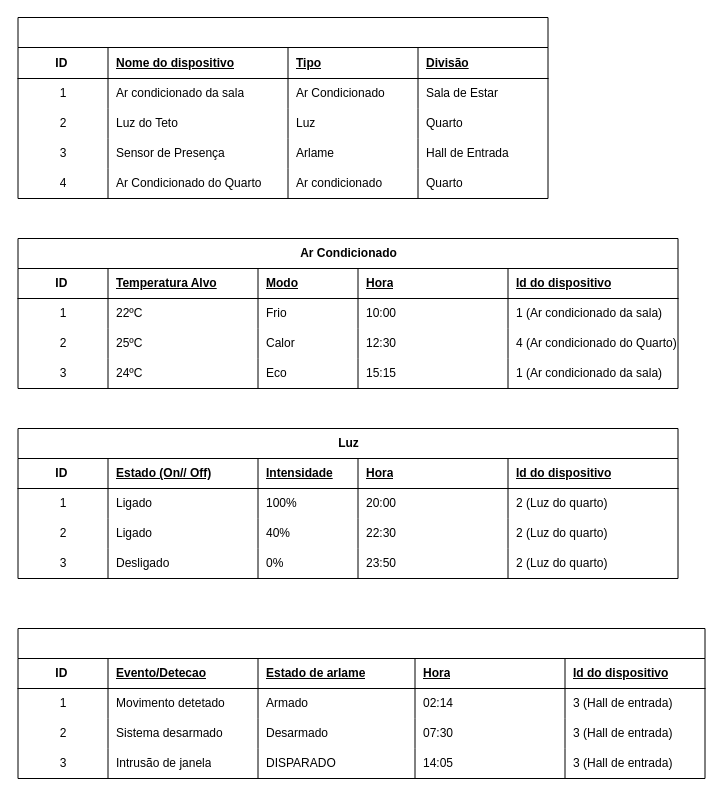
Image size: 722x796. Some labels were removed from this diagram. The box of each missing label's shape, as (x1, y1, x2, y2) in pixels:
Alarme: (17, 628, 705, 778)
Dispositivos: (17, 16, 548, 198)
